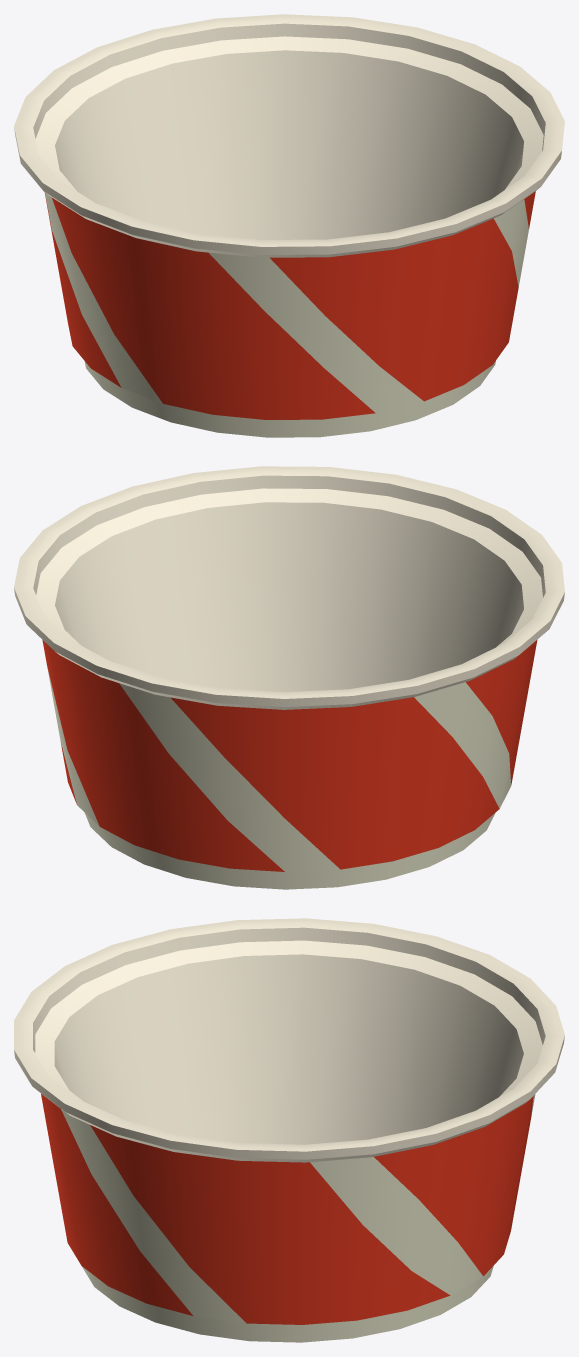
Rendered from Cup M Red White.fbx.
The picture shows the model from 3 angles, top to bottom: view 1: azimuth 30°, elevation 25°; view 2: azimuth 150°, elevation 25°; view 3: azimuth 270°, elevation 25°; orthographic projection.
Parts seen in each view (by area): view 1: Cup M Red White; view 2: Cup M Red White; view 3: Cup M Red White.
Boxes of the visible parts, x1,y1,x2,y2 form: Cup M Red White: (14,14,564,437); Cup M Red White: (14,466,564,889); Cup M Red White: (14,918,564,1342).
Bounding box in the file's own units: 0.9507 × 0.4176 × 0.9488.
